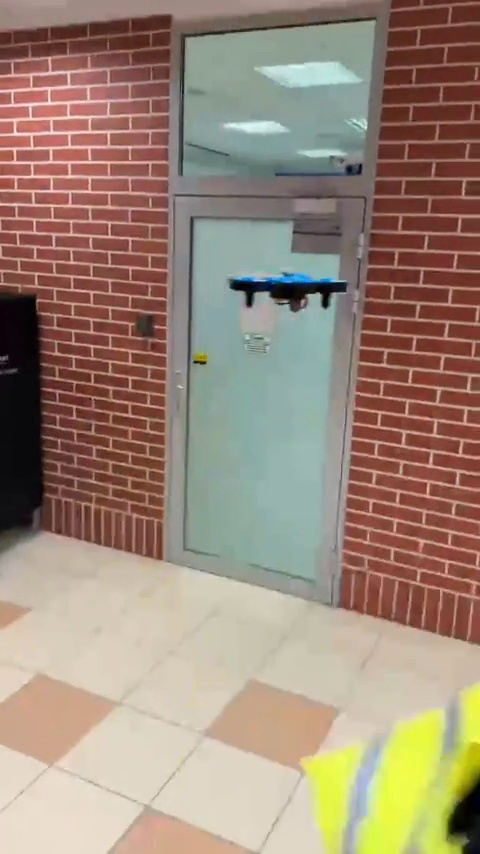drone: (228, 271, 351, 313)
